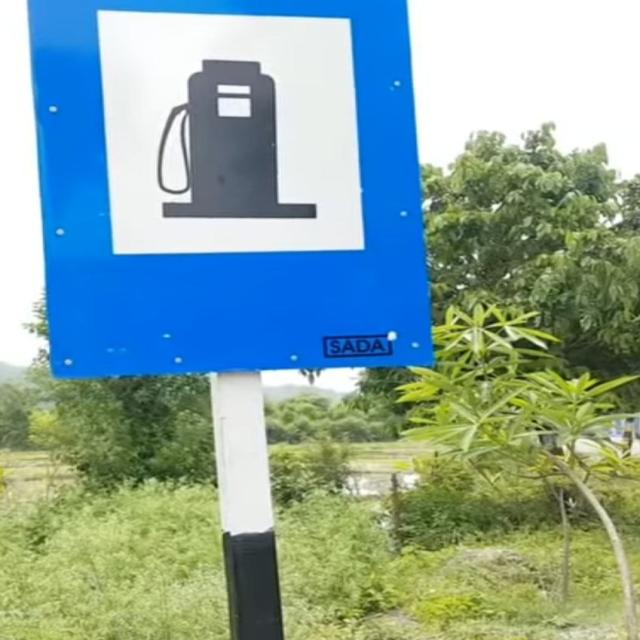petrol_station: (17, 8, 441, 379)
